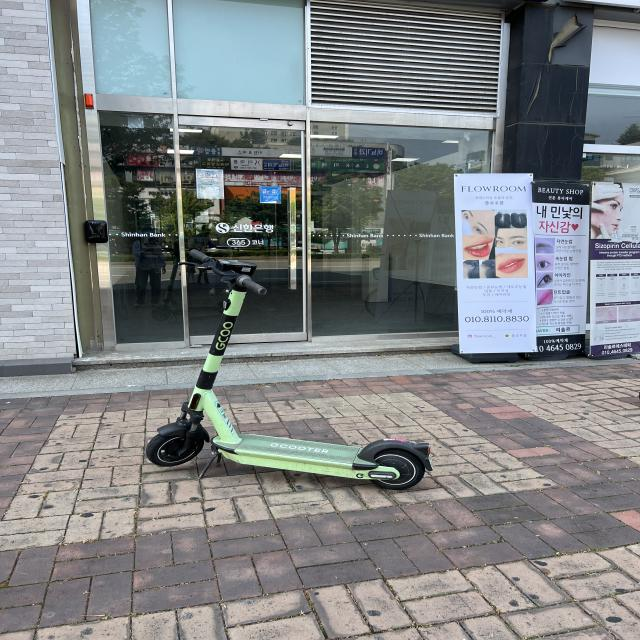kick-board: (147, 250, 433, 489)
sidewalk: (2, 361, 638, 640)
verge: (217, 352, 637, 386), (0, 364, 202, 399)
